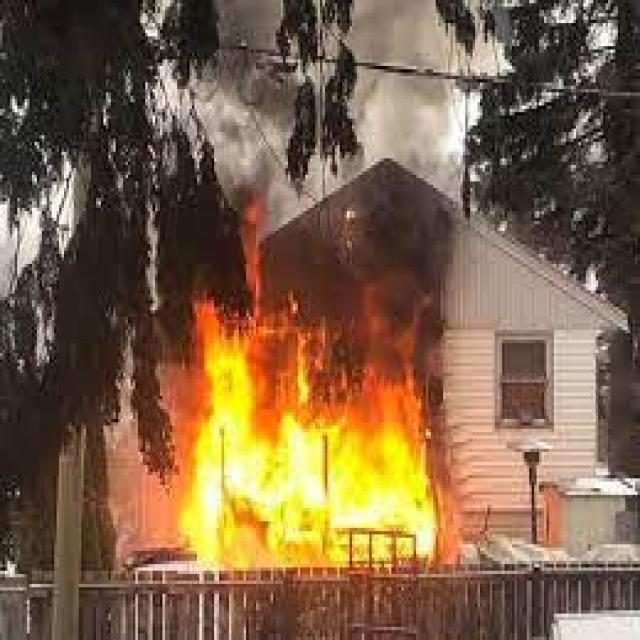Fire: (200, 316, 424, 570)
Smoke: (217, 0, 475, 349)
